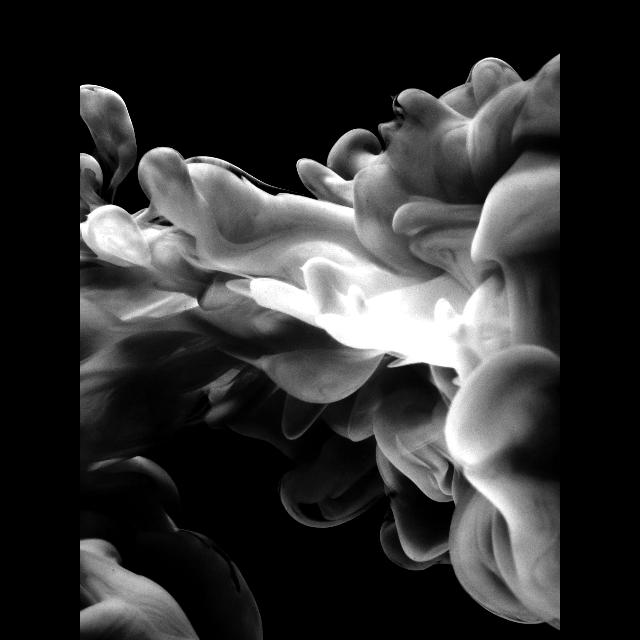smoke: (80, 55, 560, 640)
